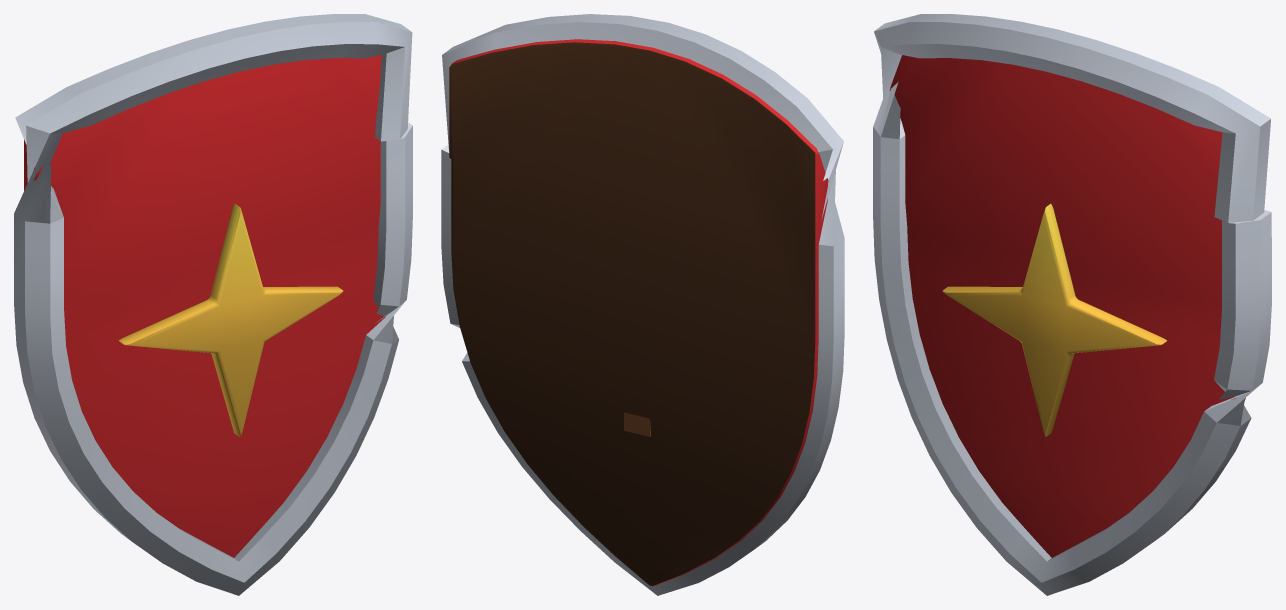
Rendered from Weapon_HeavyShield.fbx.
3 renders of one model, left to right at view 1: azimuth 30°, elevation 25°; view 2: azimuth 150°, elevation 25°; view 3: azimuth 330°, elevation 25°, orthographic.
Parts seen in each view (by area): view 1: HeavyShield; view 2: HeavyShield; view 3: HeavyShield.
Boxes of the visible parts, x1=… form: HeavyShield: x1=14, y1=14, x2=412, y2=595; HeavyShield: x1=441, y1=14, x2=844, y2=595; HeavyShield: x1=873, y1=14, x2=1271, y2=595.
Bounding box in the file's own units: 0.4501 × 0.6194 × 0.083.
